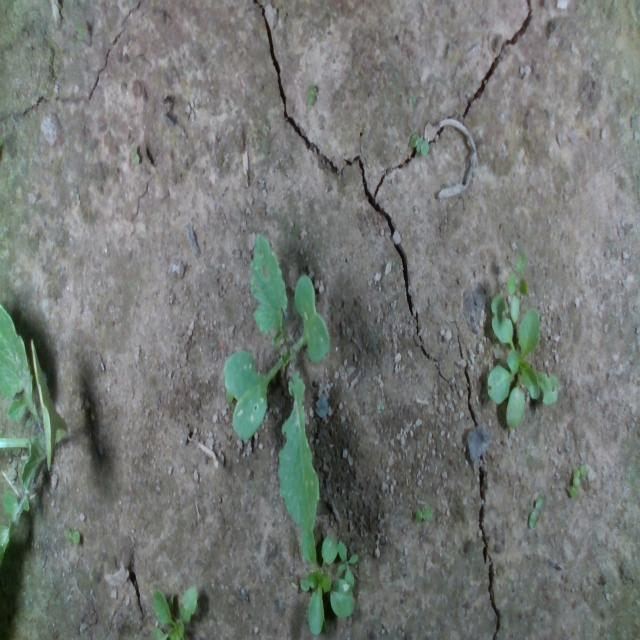weed: (528, 490, 544, 530), (409, 129, 429, 159), (414, 502, 434, 524), (64, 526, 80, 548)
